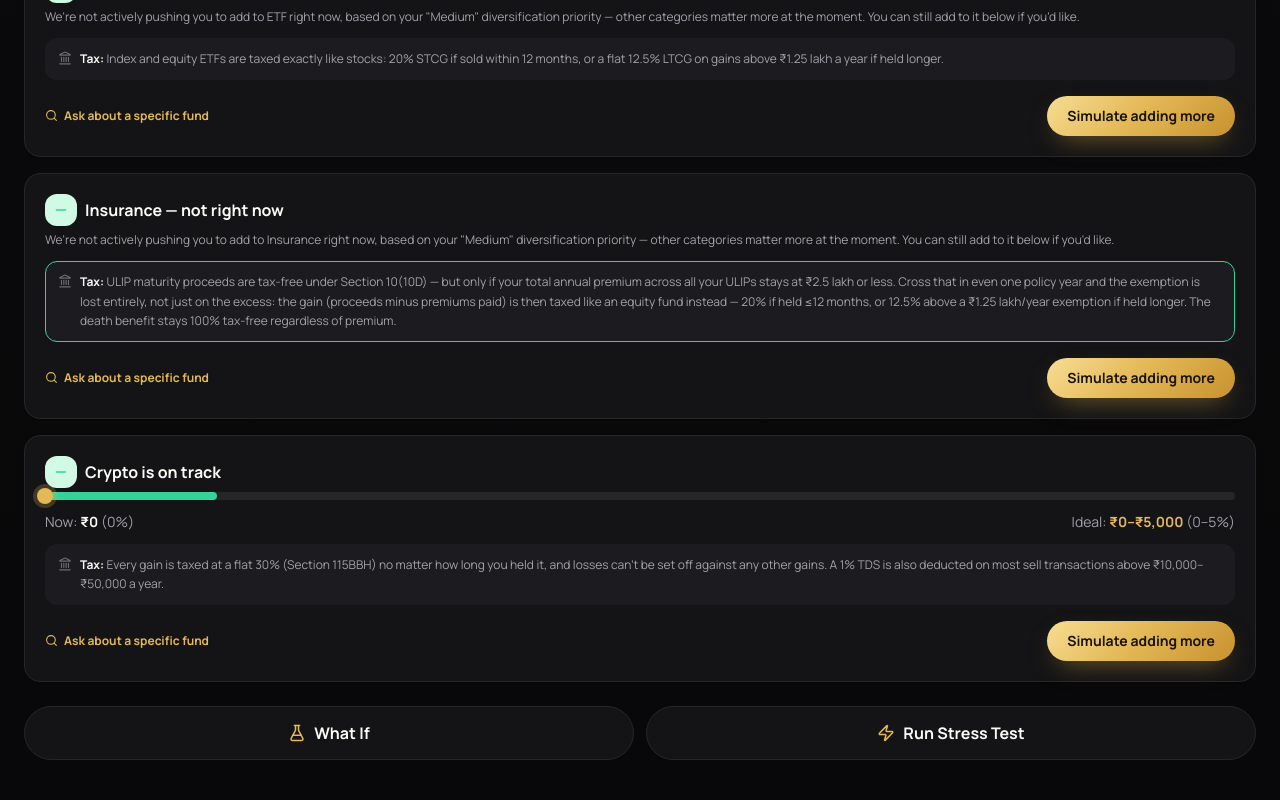
Test: Suggestions — What If / Run Stress Test button split › computes an EXACT (not fabricated) Divve Score delta from the real apparent/real diversification gap, per the documented concentration formula (§6.4): gap × 0.1
(page scrolled)
Click the button with test id "what-if-btn". click: (329, 732)
box: [24,706,634,760]
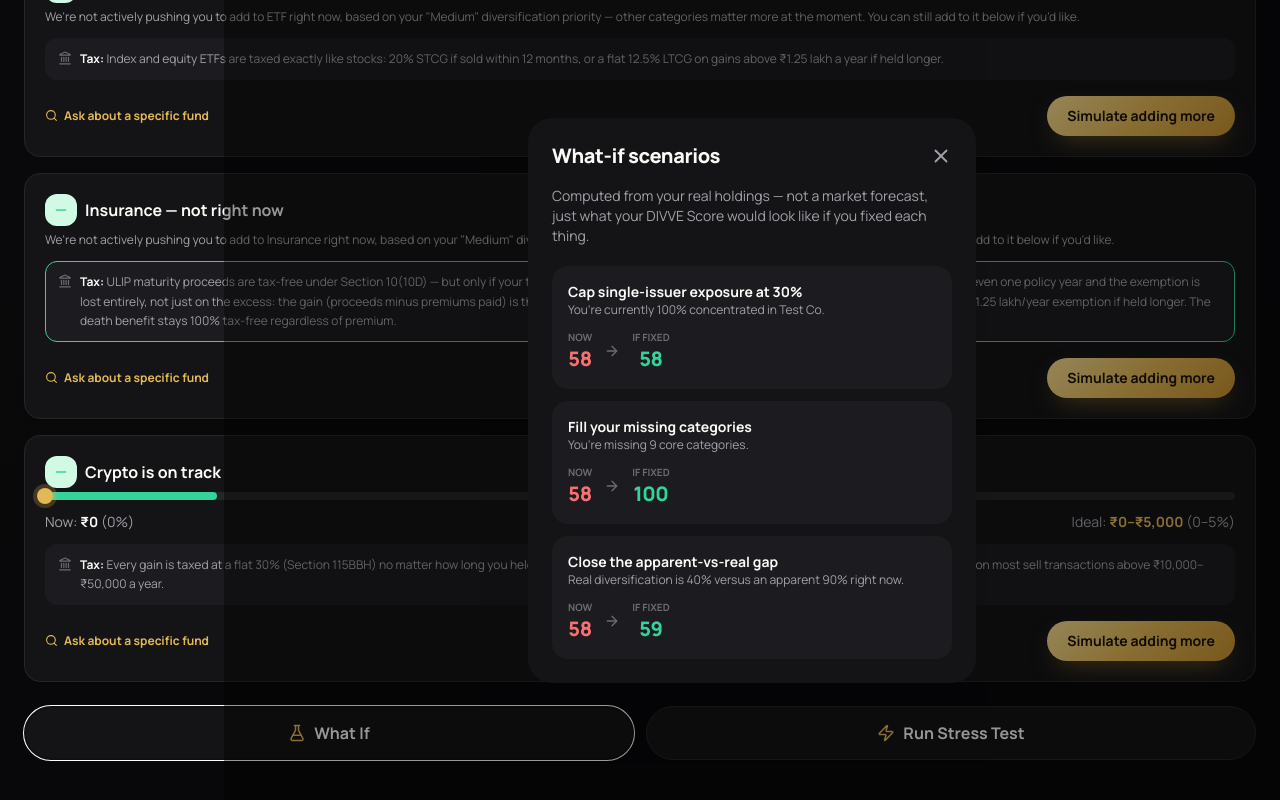
Check: the element with test id "what-if-close-lookthrough-gap" shows "Real diversification is 40% versus an apparent 90% right now.", box [568,570,904,588]
Check: the text "58" next to "59" is shown, box [568,614,592,642]
Check: the text "59" is shown, box [639,614,663,642]
